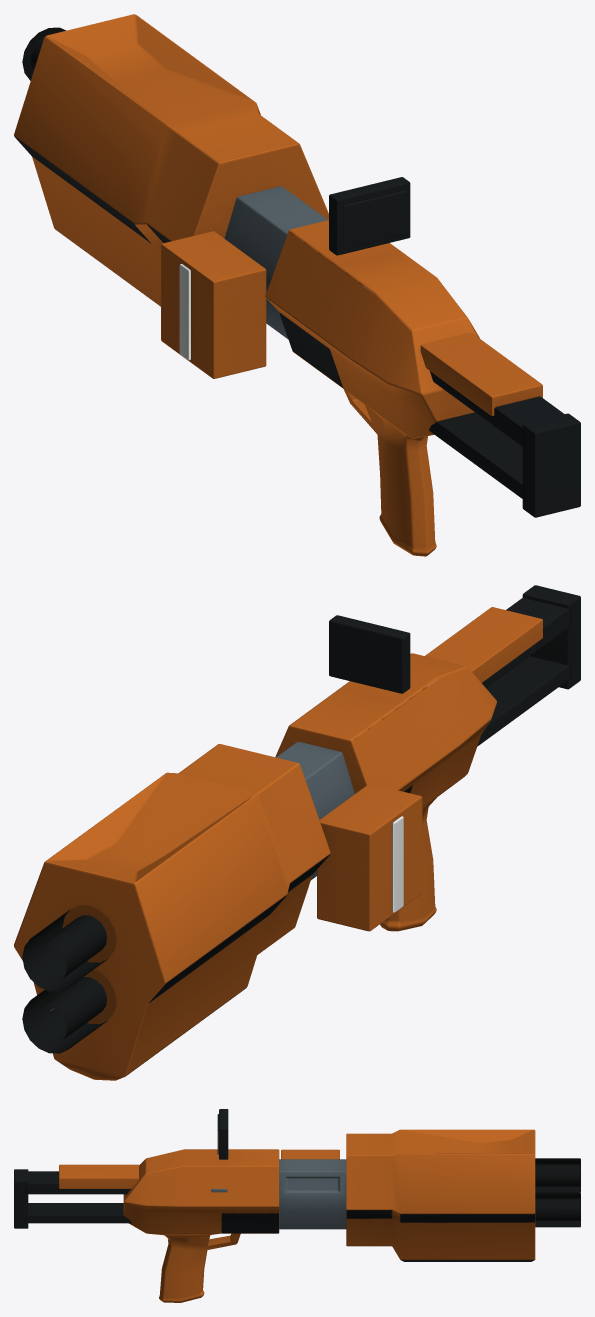
Rendered from guided_launcher.glb.
The picture shows the model from 3 angles, top to bottom: view 1: azimuth 30°, elevation 25°; view 2: azimuth 150°, elevation 25°; view 3: azimuth 270°, elevation 25°; orthographic projection. The views are drawn at different scales.
Visible parts, largest first — view 1: guided_launcher, InsertedAmmo; view 2: guided_launcher, InsertedAmmo; view 3: guided_launcher, InsertedAmmo.
Part boxes in pixels (left/top/right/bottom): guided_launcher: left=14, top=14, right=580, bottom=556; InsertedAmmo: left=161, top=231, right=266, bottom=378; guided_launcher: left=14, top=585, right=580, bottom=1080; InsertedAmmo: left=317, top=783, right=422, bottom=931; guided_launcher: left=14, top=1109, right=580, bottom=1302; InsertedAmmo: left=281, top=1149, right=339, bottom=1159.
Bounding box in the file's own units: 0.1861 × 0.316 × 0.8916.
Materials: 1 (1 with a texture image).
